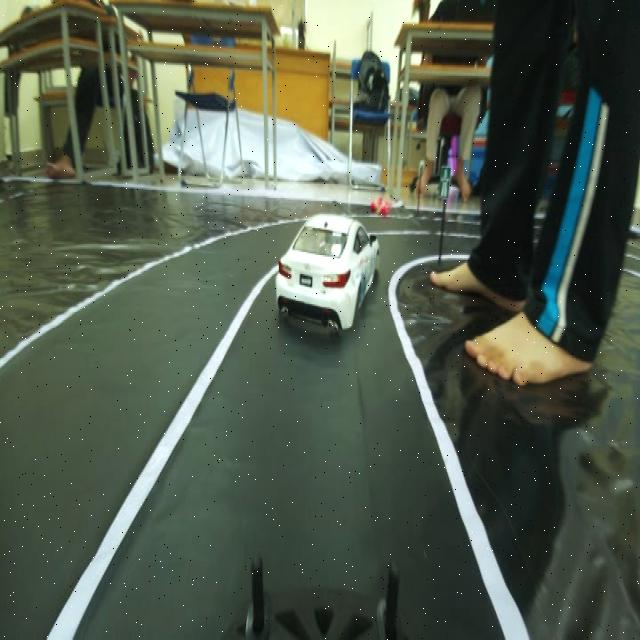car: (279, 189, 381, 351)
highway_entry: (436, 159, 450, 207)
